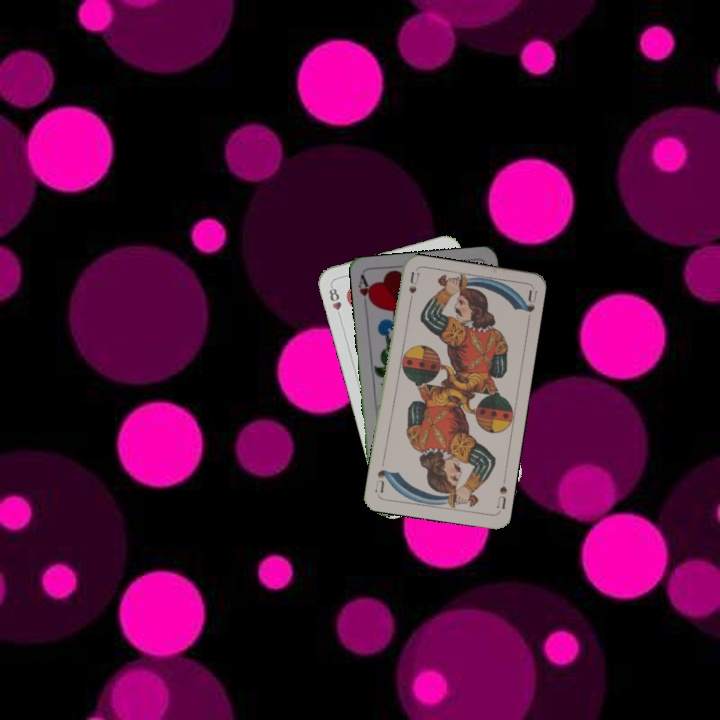H8: (325, 281, 344, 321)
HA: (354, 272, 376, 312)
SU: (405, 268, 421, 309), (493, 482, 510, 512)
